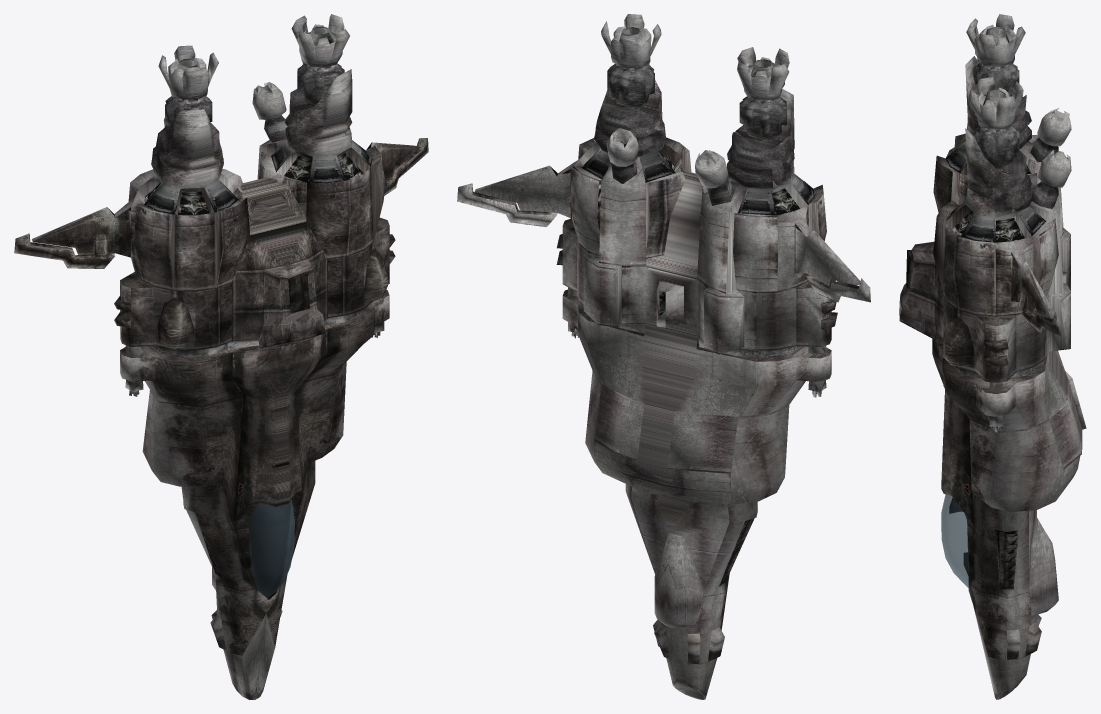
The model's file is SFighter.obj.
3 views of the same model, side by side, from view 1: azimuth 30°, elevation 25°; view 2: azimuth 150°, elevation 25°; view 3: azimuth 270°, elevation 25° (orthographic). The views are drawn at different scales.
Parts seen in each view (by area): view 1: SFighter, cockpit; view 2: SFighter; view 3: SFighter, cockpit.
Part boxes in pixels (bbox=[...]): SFighter: bbox=[14, 14, 428, 699]; cockpit: bbox=[248, 499, 294, 597]; SFighter: bbox=[457, 14, 870, 699]; SFighter: bbox=[899, 14, 1086, 699]; cockpit: bbox=[941, 494, 968, 587].
Size of the model in its own units: 24021 by 36505 by 9646.
2 materials, 1 textured.
